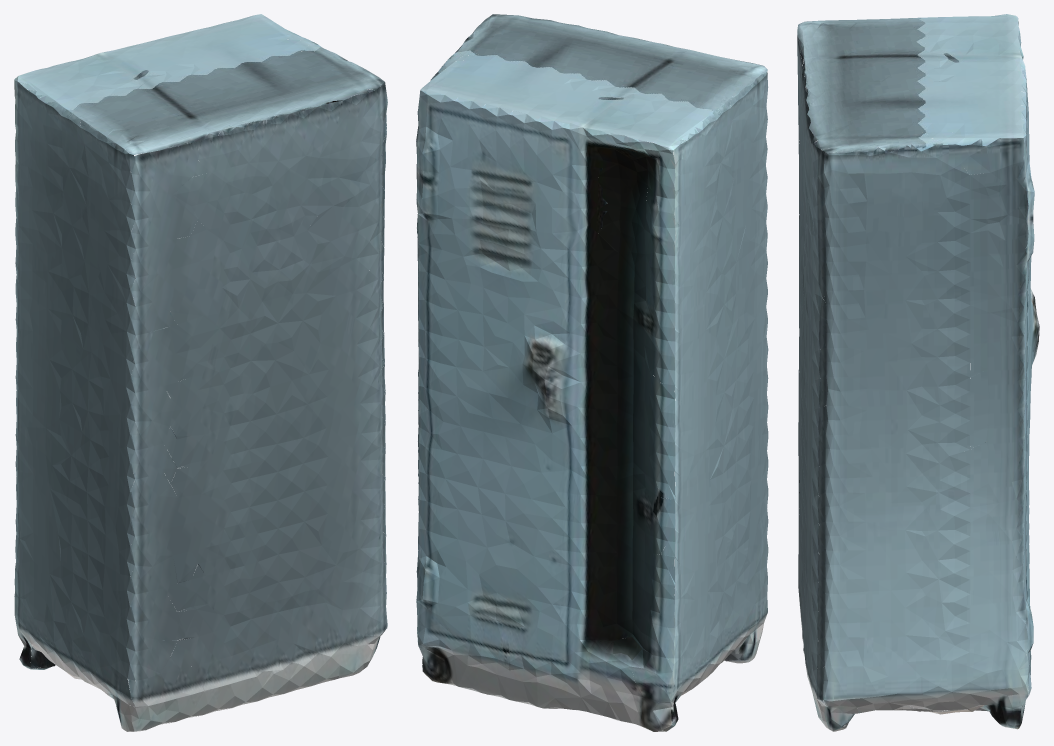
The model's file is locker.glb.
3 views of the same model, side by side, from view 1: azimuth 30°, elevation 25°; view 2: azimuth 150°, elevation 25°; view 3: azimuth 270°, elevation 25° (orthographic).
Parts seen in each view (by area): view 1: world; view 2: world; view 3: world.
Boxes of the visible parts, x1=… form: world: x1=14, y1=14, x2=387, y2=731; world: x1=416, y1=14, x2=768, y2=731; world: x1=797, y1=14, x2=1039, y2=731.
Size of the model in its own units: 0.4454 by 0.905 by 0.3313.
Materials: 1 (1 with a texture image).
